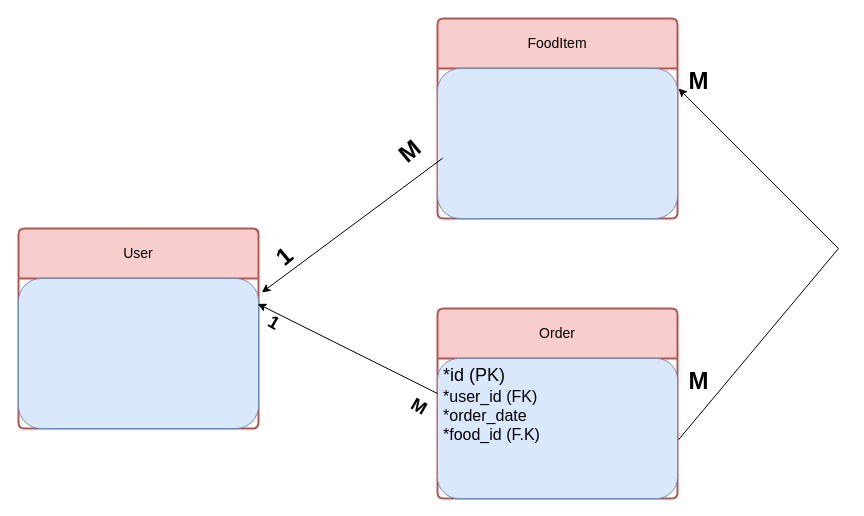
Some shapes in this 864 by 516 pixel diagram are drawn without their labels. Each missing label, with the centre of its shape:
* id (primary key) *username *email: point (138, 353)
*id (Primary Key) *name *desciption *price *user_id (FK): point (557, 143)
